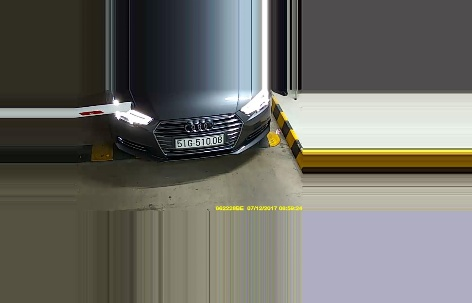plate: (172, 133, 225, 149)
